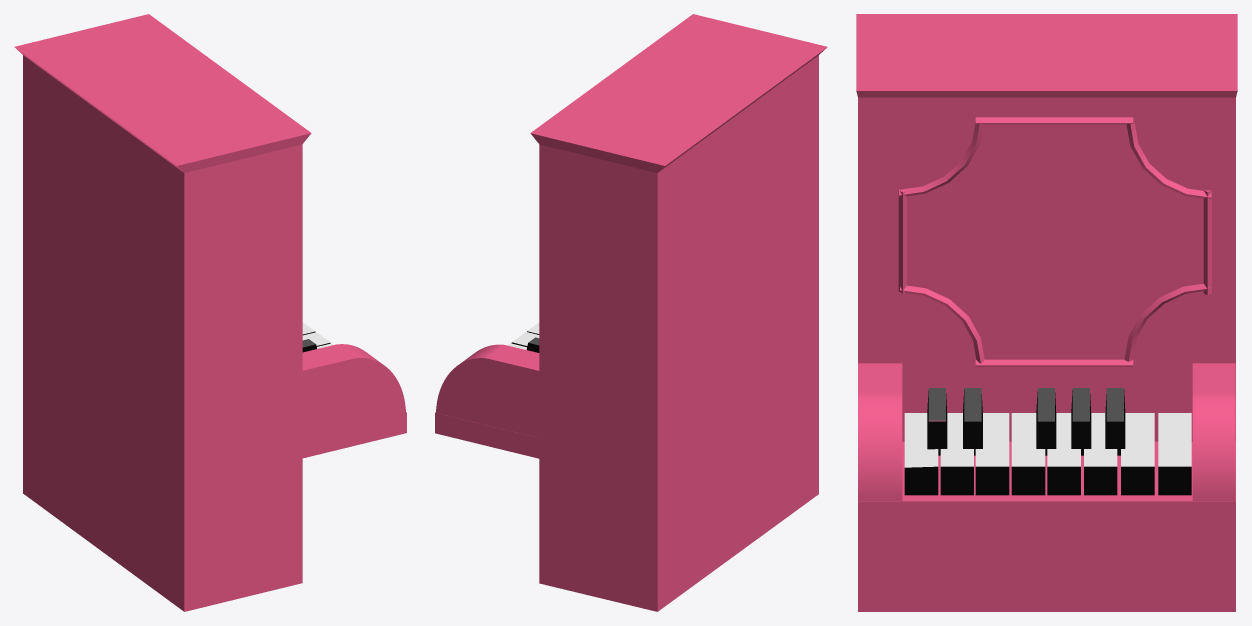
The model's file is piano1.obj.
3 views of the same model, side by side, from view 1: azimuth 30°, elevation 25°; view 2: azimuth 150°, elevation 25°; view 3: azimuth 270°, elevation 25° (orthographic). The views are drawn at different scales.
Visible parts, largest first — view 1: piano1:pCube16; view 2: piano1:pCube16; view 3: piano1:pCube16.
Part boxes in pixels (bbox=[...]): piano1:pCube16: bbox=[14, 14, 406, 611]; piano1:pCube16: bbox=[435, 14, 827, 611]; piano1:pCube16: bbox=[856, 14, 1237, 611].
Bounding box in the file's own units: 33.04 × 61.37 × 40.36.
Materials: 1 (1 with a texture image).
